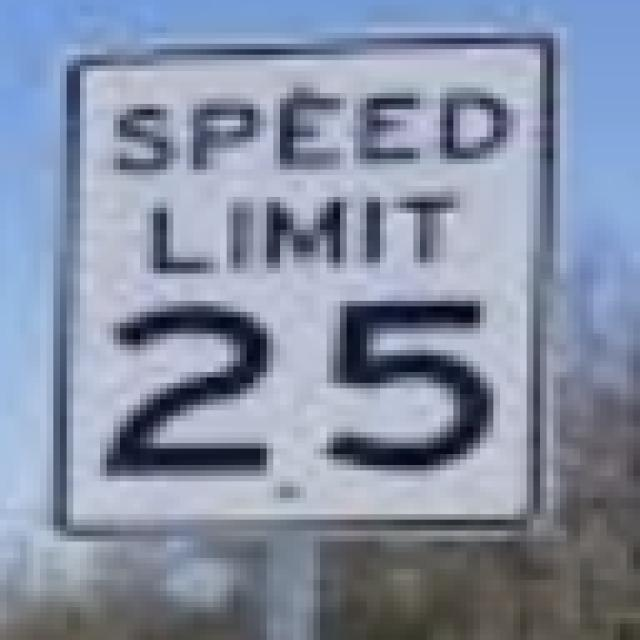speedLimit25: (61, 49, 548, 533)
